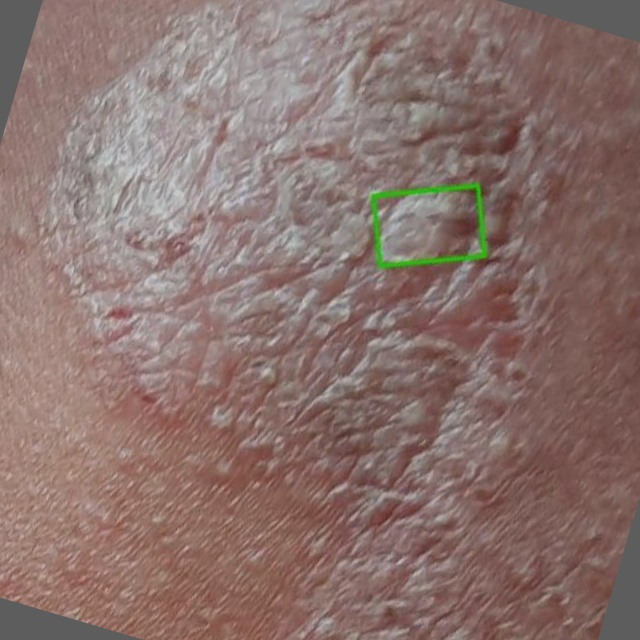Contact Dermatitis: (372, 186, 484, 267)
